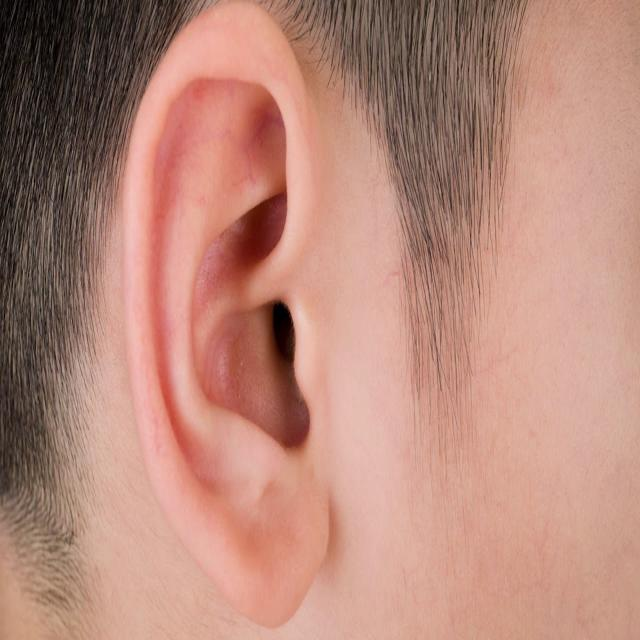earlobe: (229, 435, 323, 631)
wholeear: (123, 0, 324, 632)
